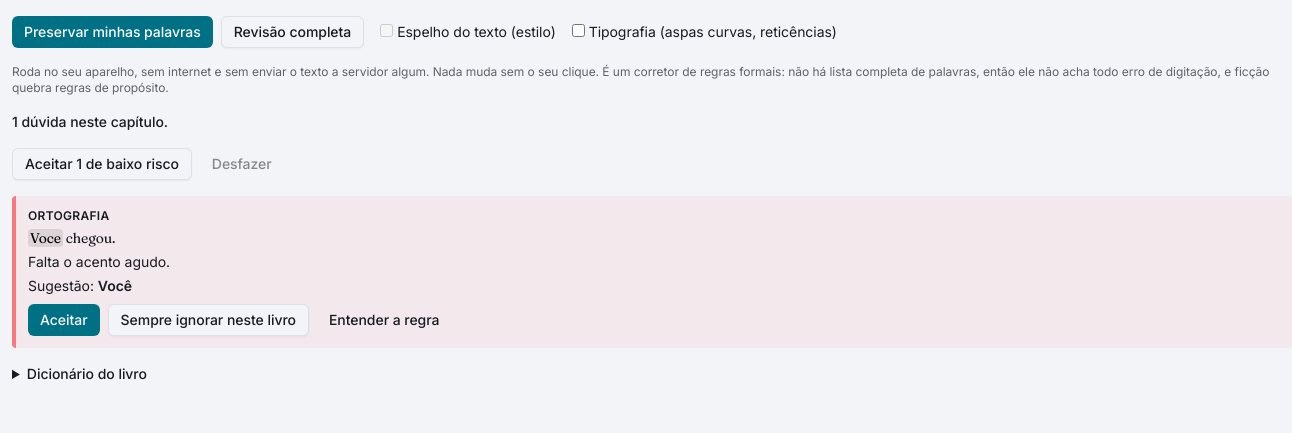
Test: ProofreadPanel › não aplica quando há formatação ao redor
Click the button "Aceitar". click: (64, 320)
box: [28,304,100,336]
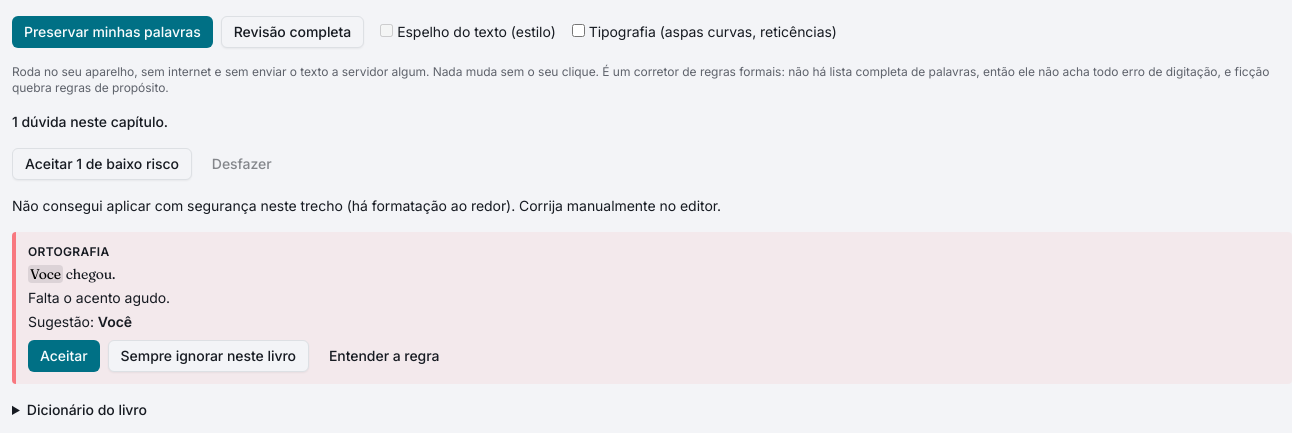
Now the message shows "manualmente", box [12,197,721,214]
